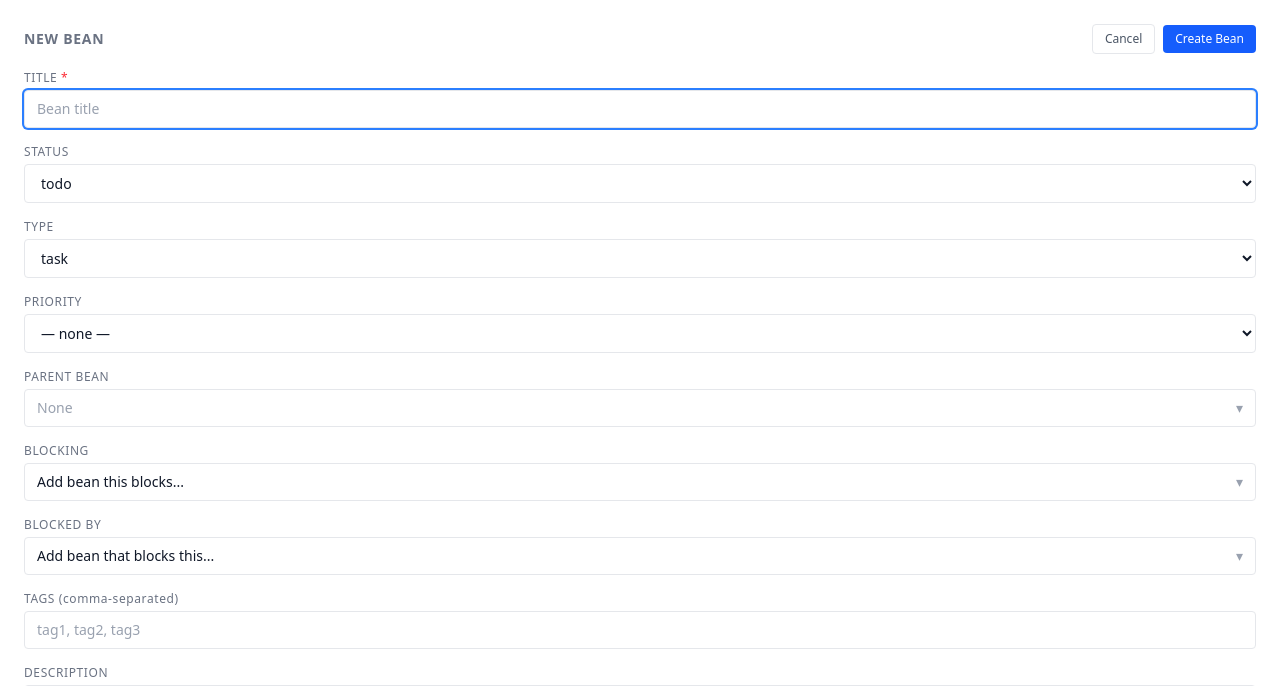
it: CreateBeanForm › shows validation error when title is empty on submit
The width and height of the screenshot is (1280, 686).
Click the button "Create Bean" at (1210,39), box left=1163, top=25, right=1256, bottom=53
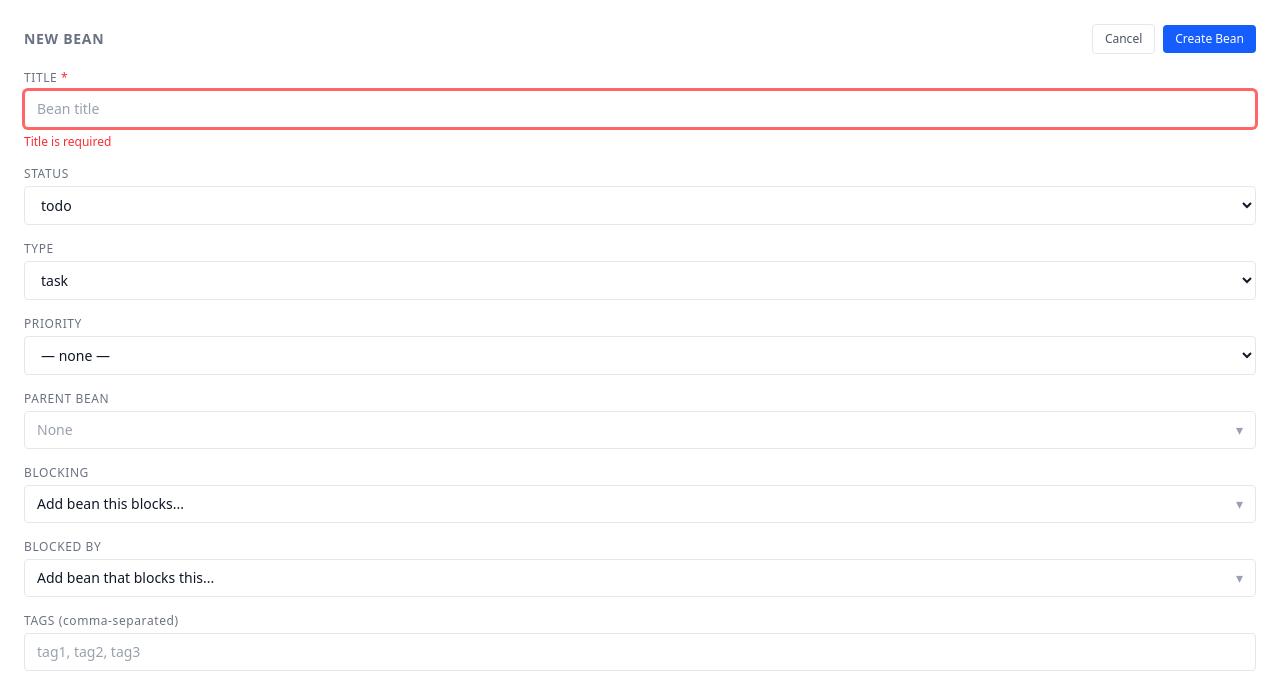
Result: the text "Title is required" is shown at left=24, top=133, right=111, bottom=150
